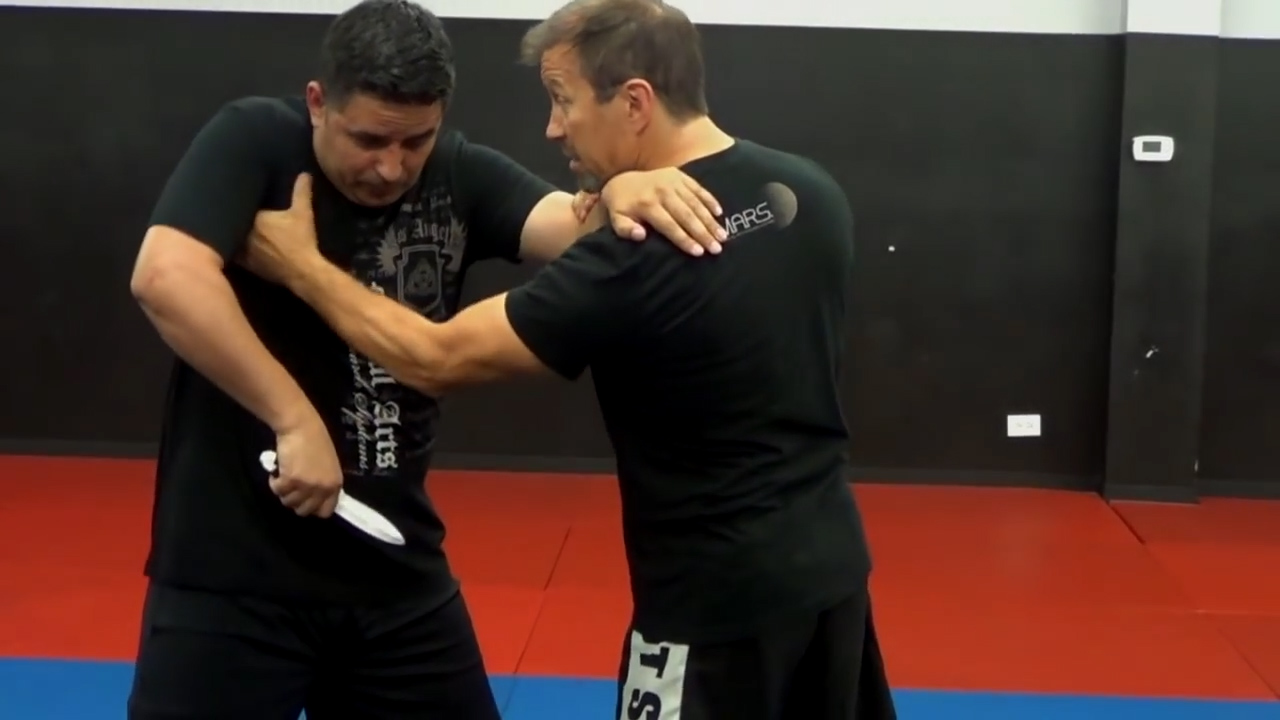knife: (256, 441, 416, 552)
